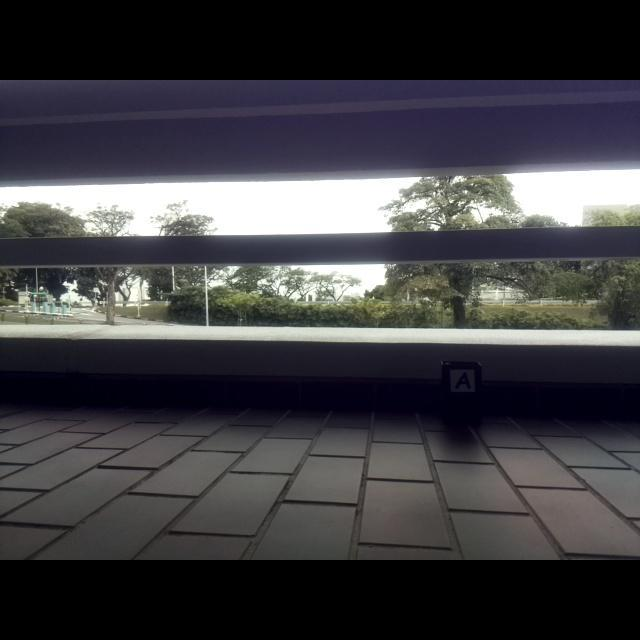A: (455, 372, 471, 390)
